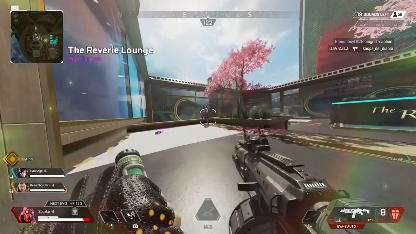Target: (201, 104, 209, 124)
